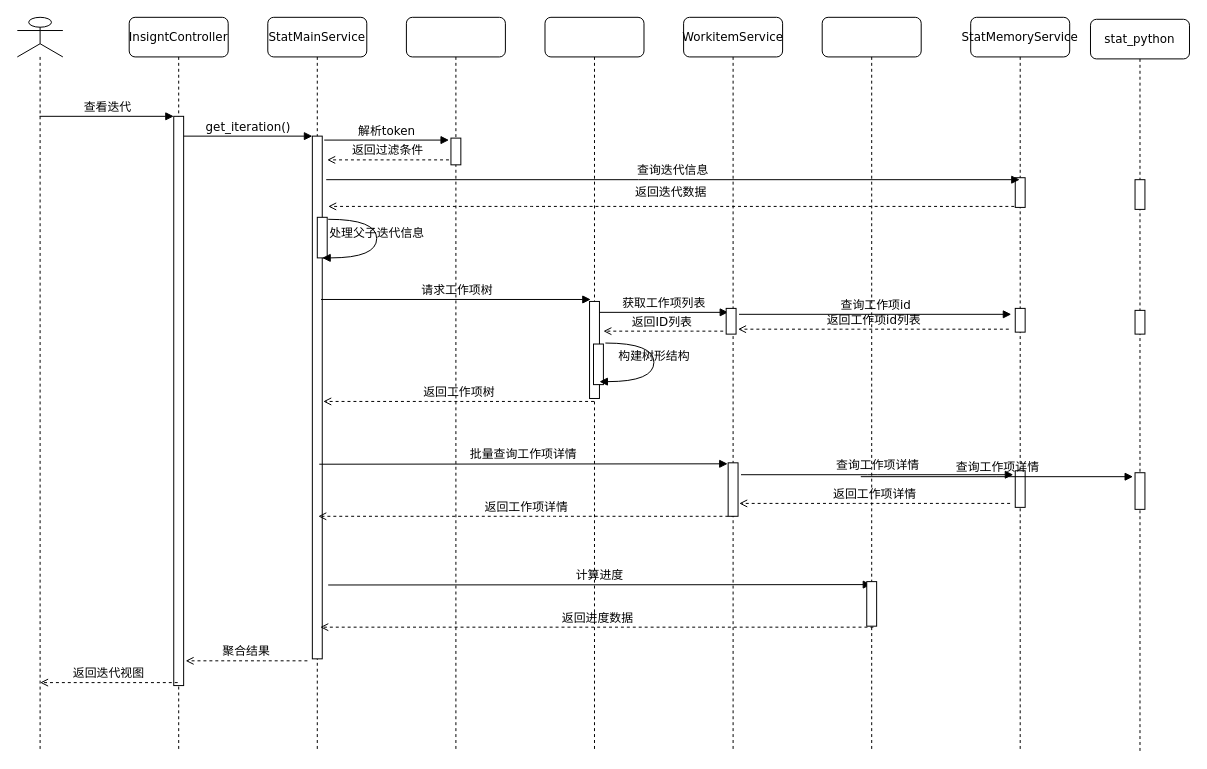
This 1207x769 diagram has some shape labels left out. The box of each missing label's shape, as (x1, y1, x2, y2) in pixels:
ConfigService: (405, 16, 505, 750)
StatDataService: (821, 16, 921, 750)
StatIndicatorService: (544, 16, 644, 750)
